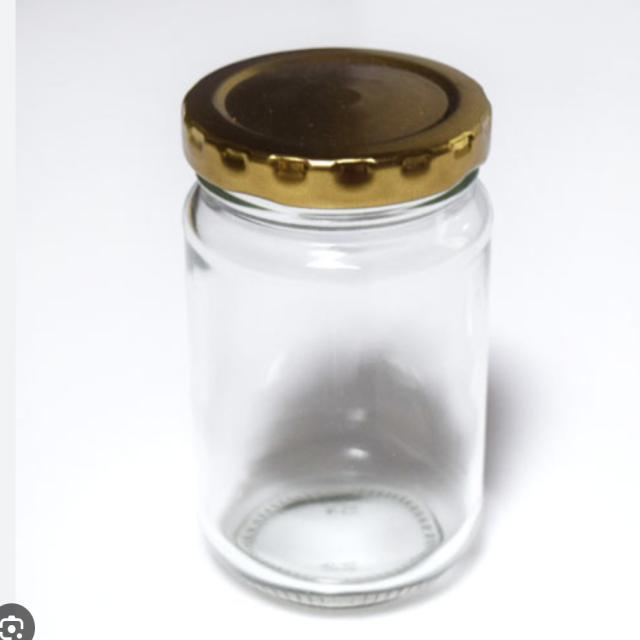recyclable: (173, 180, 507, 625)
